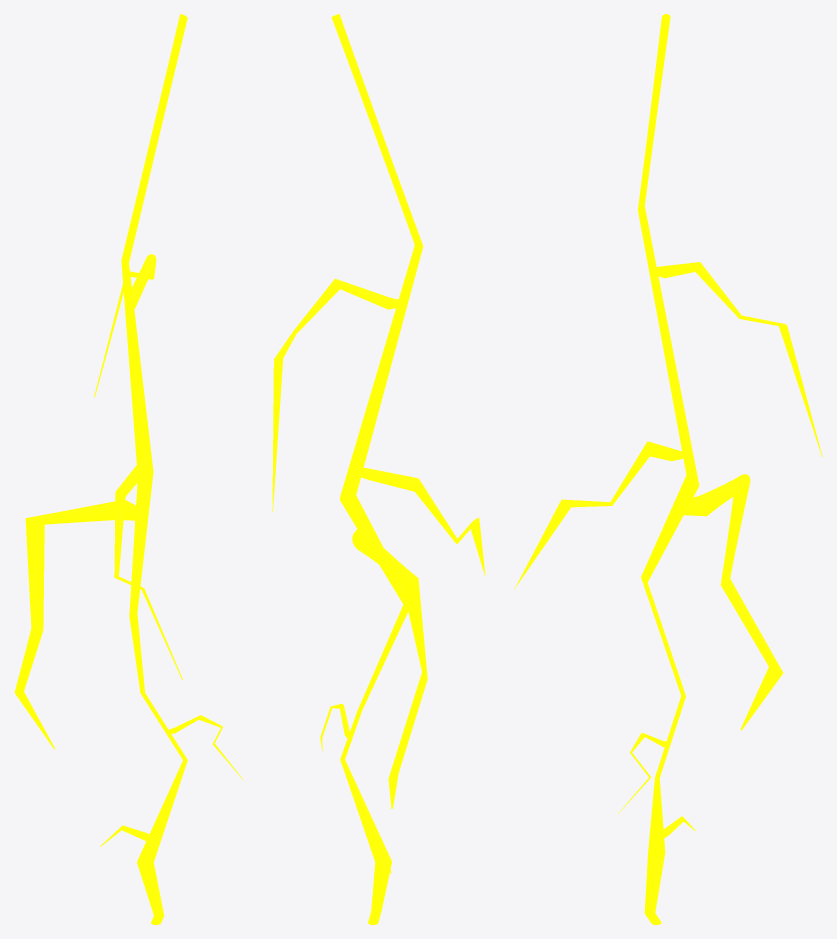
Rendered from lightning_no_sheep.fbx.
3 renders of one model, left to right at view 1: azimuth 30°, elevation 25°; view 2: azimuth 150°, elevation 25°; view 3: azimuth 270°, elevation 25°, orthographic. The views are drawn at different scales.
Visible parts, largest first — view 1: Cylinder; view 2: Cylinder; view 3: Cylinder.
Boxes of the visible parts, x1,y1,x2,y2 form: Cylinder: (14, 14, 243, 924); Cylinder: (272, 14, 485, 924); Cylinder: (514, 14, 822, 924).
Size of the model in its own units: 249 by 1348 by 408.
